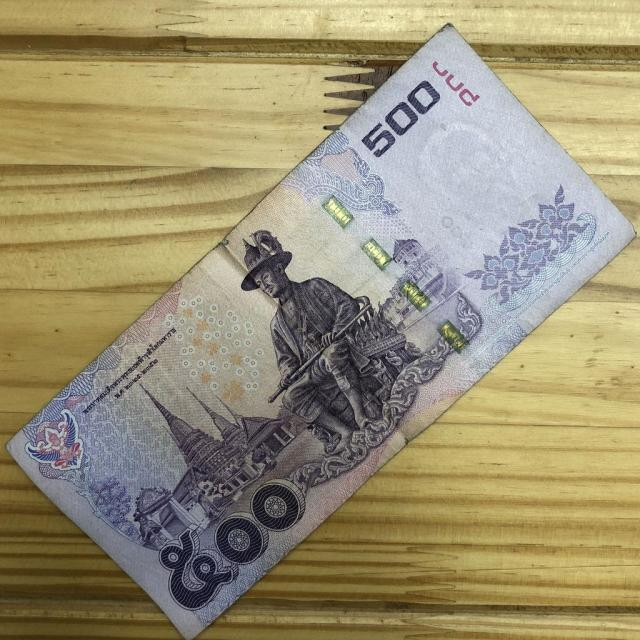THAI500: (9, 24, 633, 639)
